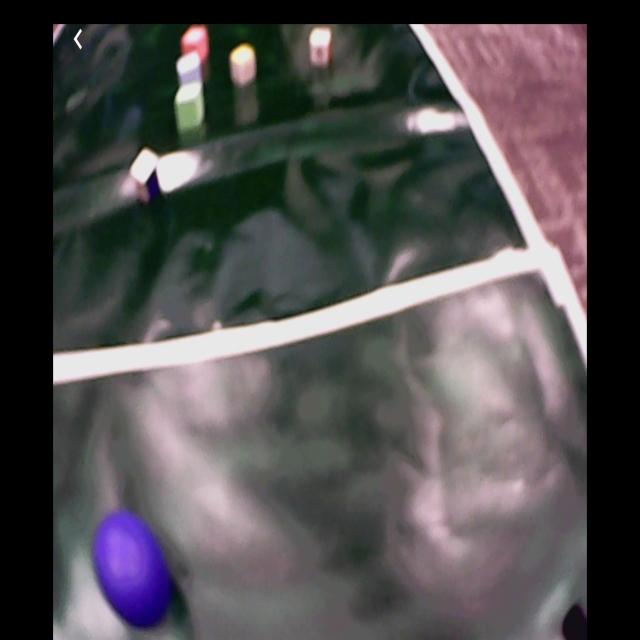ball: (95, 509, 171, 621)
